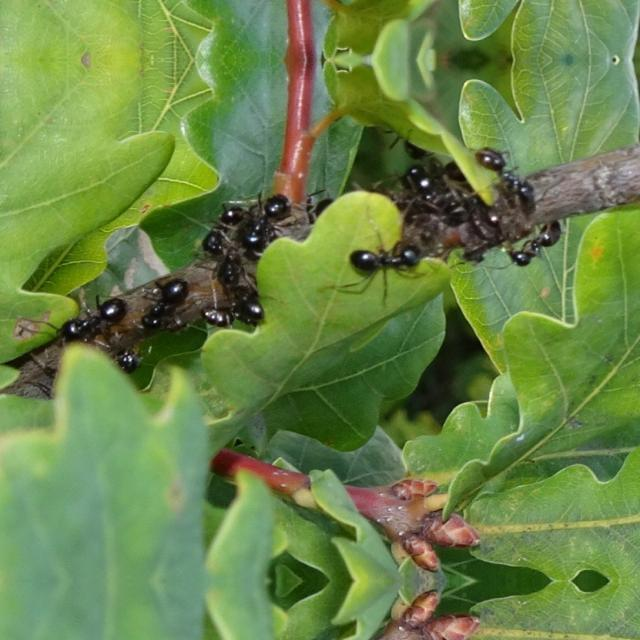Lasius: (476, 143, 560, 220), (346, 227, 422, 296), (207, 238, 269, 304), (52, 290, 116, 352), (512, 208, 570, 272), (251, 182, 301, 250), (191, 189, 243, 249), (382, 147, 434, 199), (146, 268, 180, 338), (200, 300, 268, 330)
